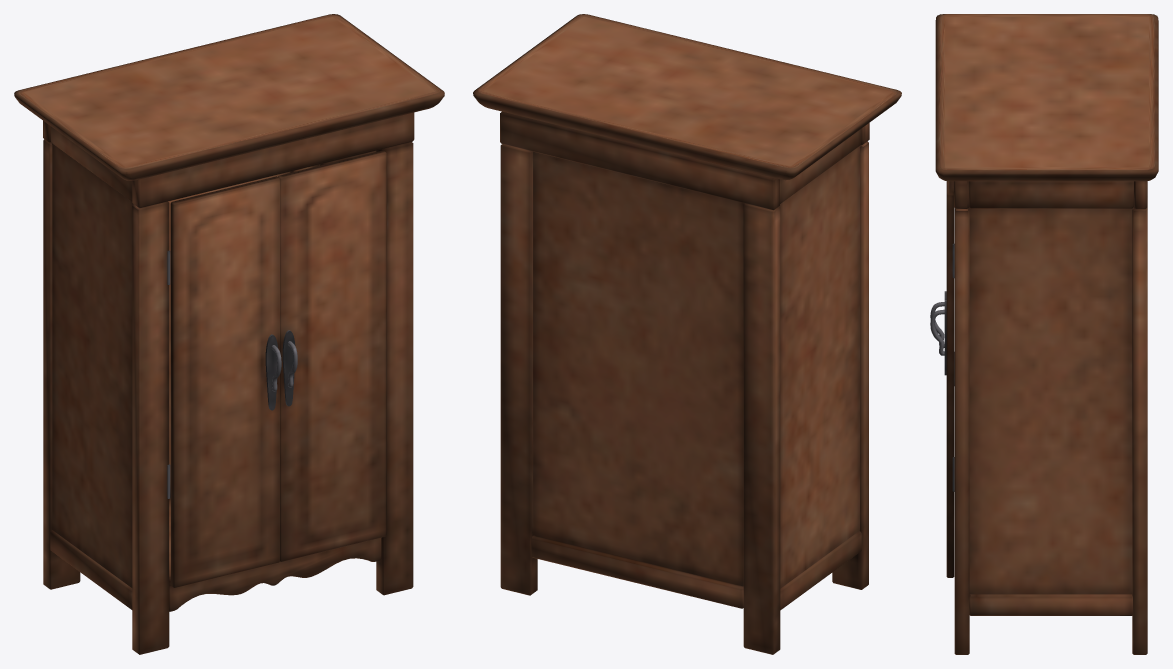
The model's file is wardrobe_1.fbx.
3 renders of one model, left to right at view 1: azimuth 30°, elevation 25°; view 2: azimuth 150°, elevation 25°; view 3: azimuth 270°, elevation 25°, orthographic.
Parts seen in each view (by area): view 1: wardrobe_1; view 2: wardrobe_1; view 3: wardrobe_1.
Boxes of the visible parts, x1,y1,x2,y2 form: wardrobe_1: (14, 14, 444, 654); wardrobe_1: (473, 14, 901, 654); wardrobe_1: (930, 14, 1158, 654).
Bounding box in the file's own units: 1.34 × 1.95 × 0.8126.
